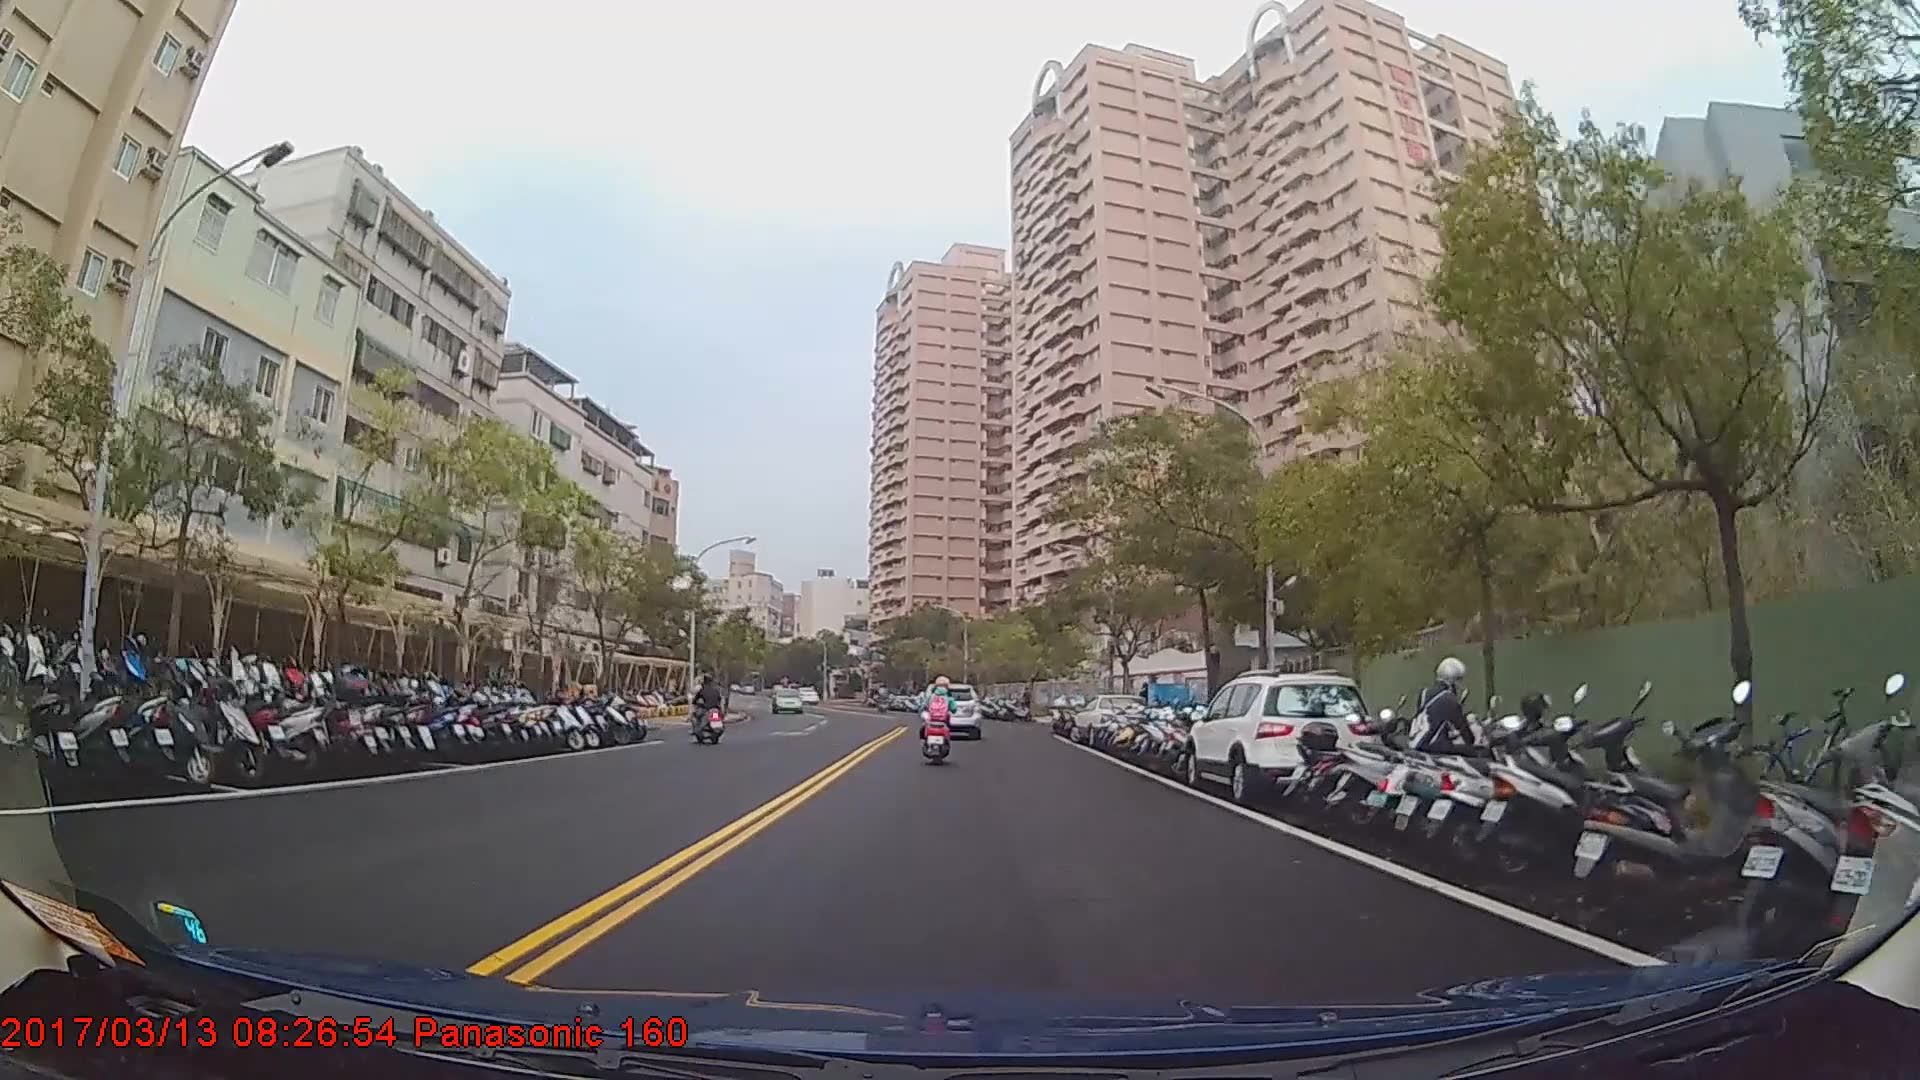rider: (919, 671, 958, 769), (691, 673, 728, 746)
vehicle: (1182, 671, 1373, 803), (1068, 692, 1152, 750), (919, 679, 979, 736), (770, 688, 806, 714)
